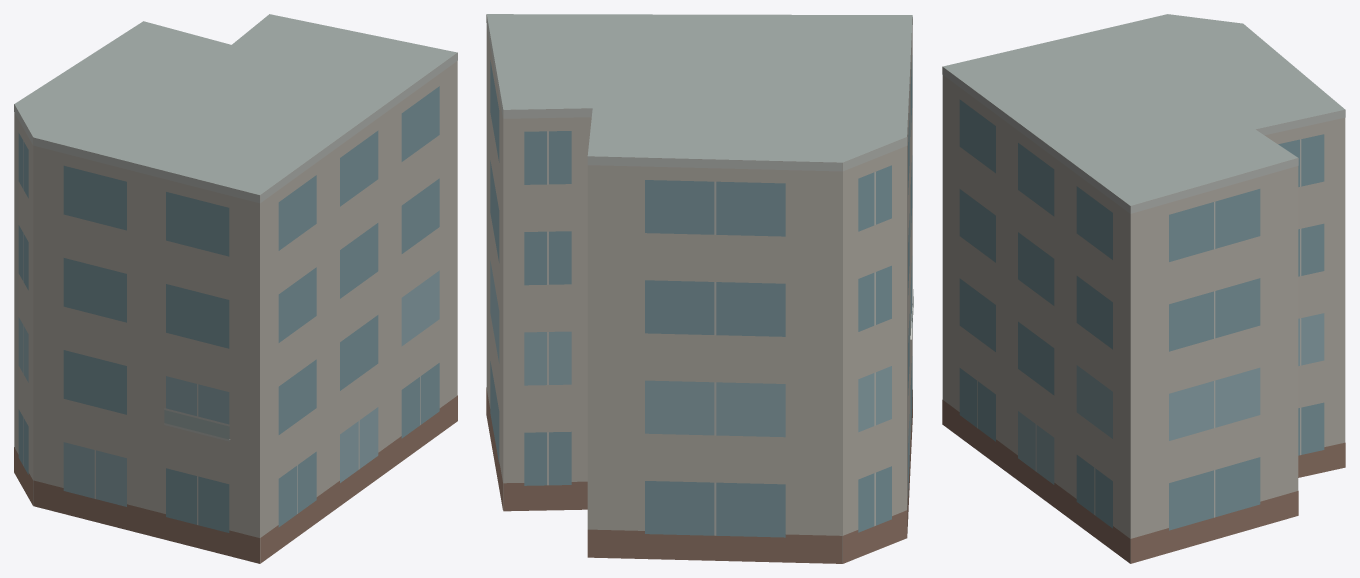
The model's file is survey-upis-32992113.glb.
The picture shows the model from 3 angles, left to right: view 1: azimuth 30°, elevation 25°; view 2: azimuth 150°, elevation 25°; view 3: azimuth 270°, elevation 25°; orthographic projection. The views are drawn at different scales.
Visible parts, largest first — view 1: survey-upis-32992113.tmp; view 2: survey-upis-32992113.tmp; view 3: survey-upis-32992113.tmp.
Boxes of the visible parts, x1,y1,x2,y2 form: survey-upis-32992113.tmp: [14, 14, 457, 563]; survey-upis-32992113.tmp: [486, 14, 913, 563]; survey-upis-32992113.tmp: [942, 14, 1345, 563].
Bounding box in the file's own units: 12.67 × 11 × 11.24.
